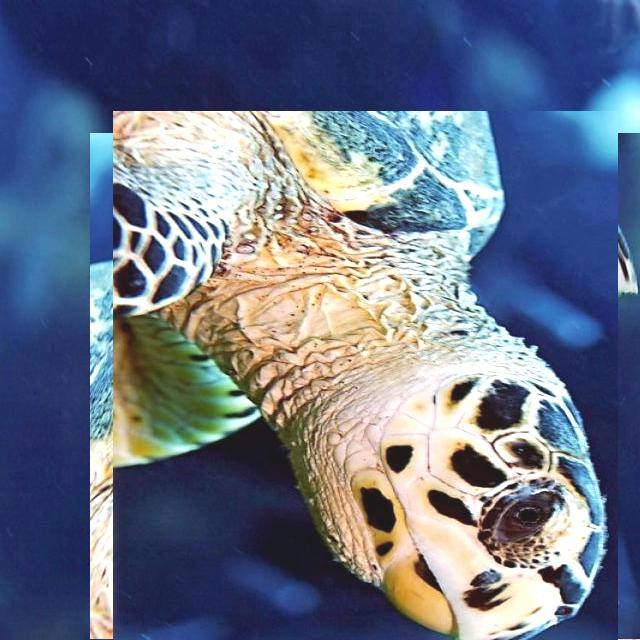Sea turtle: (101, 122, 628, 640)
